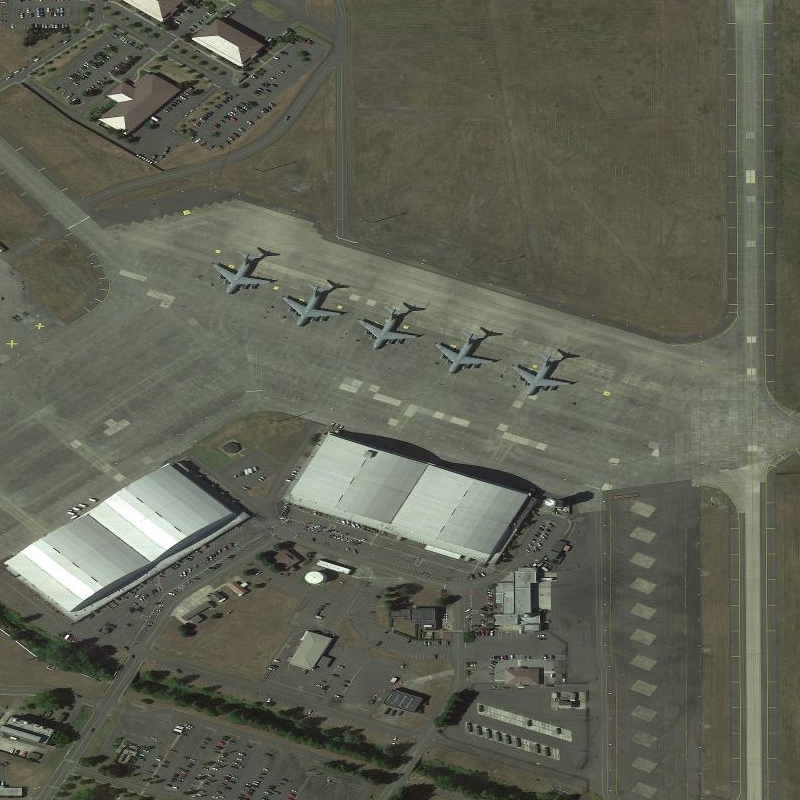A3: (356, 299, 419, 353), (280, 279, 347, 329), (432, 324, 496, 374), (208, 248, 273, 297), (510, 347, 572, 397)
